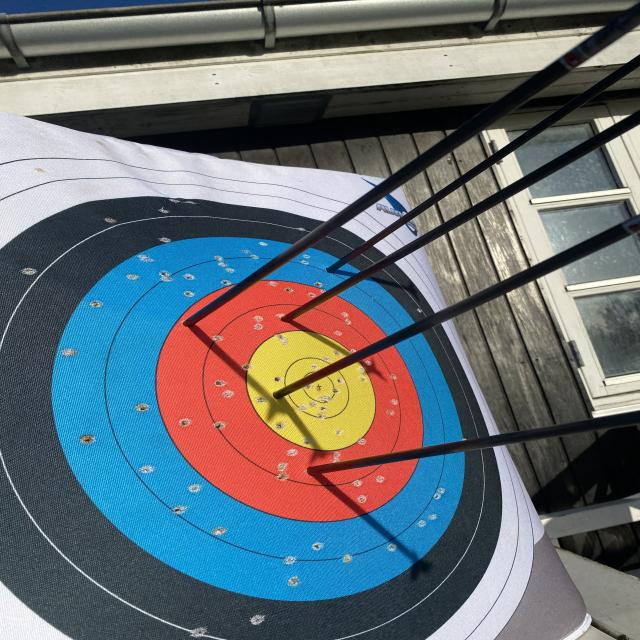Arrow_Blue: (320, 255, 349, 285)
Arrow_Red: (288, 453, 334, 486), (176, 308, 216, 336), (268, 304, 306, 331)
Arrow_Yellow: (260, 378, 296, 405)
